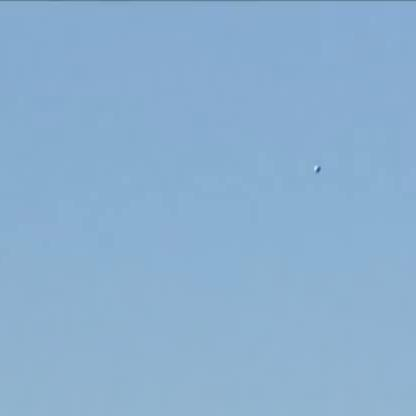golfball: (310, 163, 320, 170)
